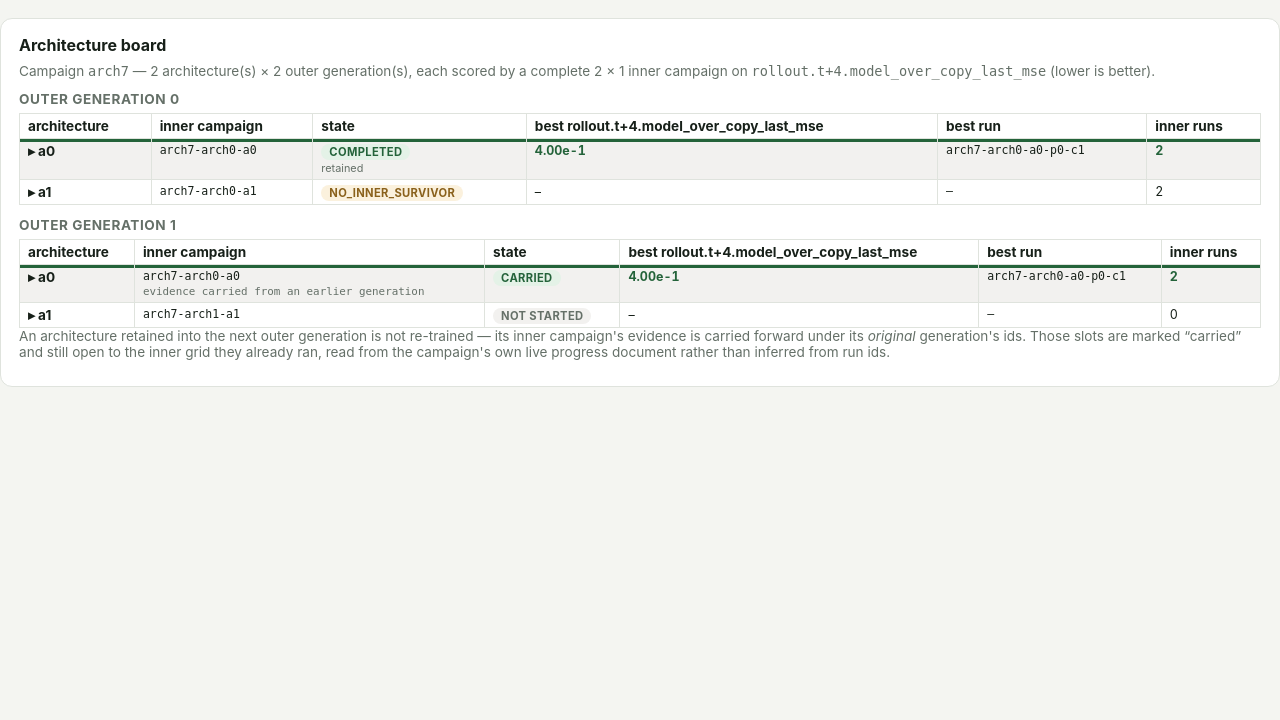
ArchitectureBoard › opens a carried slot onto the inner grid it already ran
Expected: the text "carried" is shown, [493, 270, 560, 286]
Click the button named "expand " at (42, 277), box [28, 269, 55, 285]
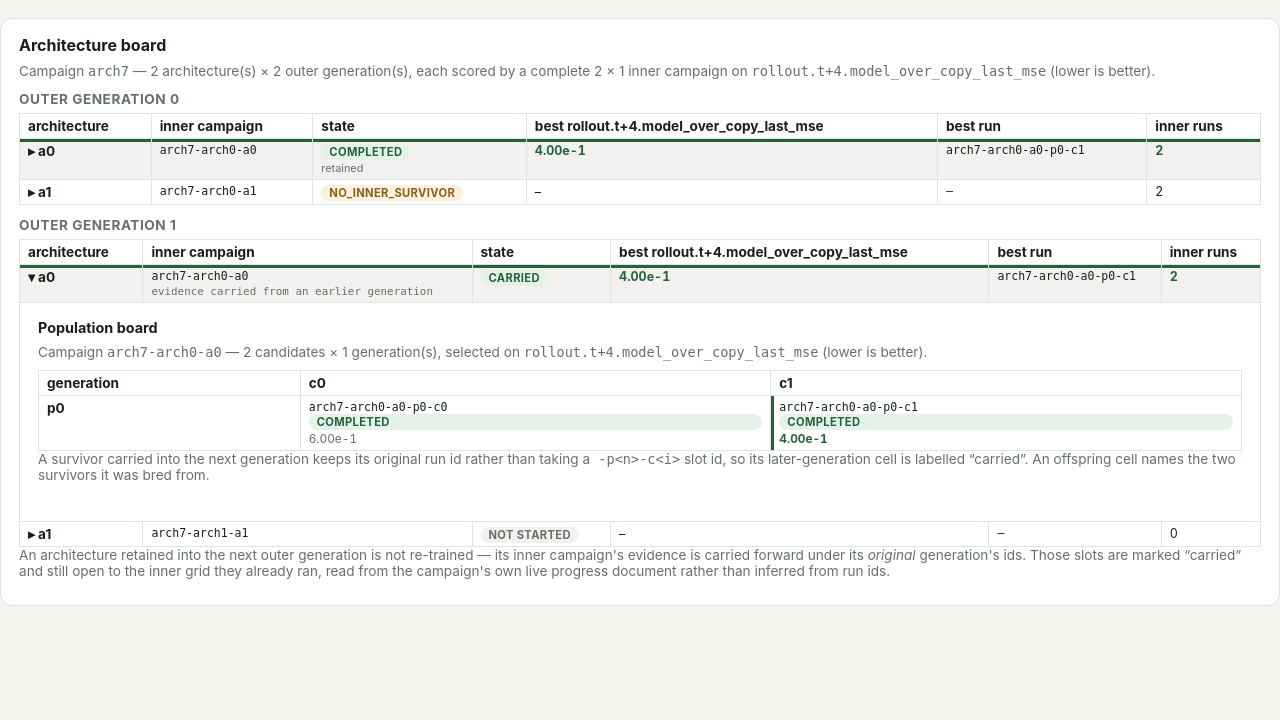
Now the text "arch7-arch0-a0-p0-c1" is shown, box [779, 400, 918, 414]
